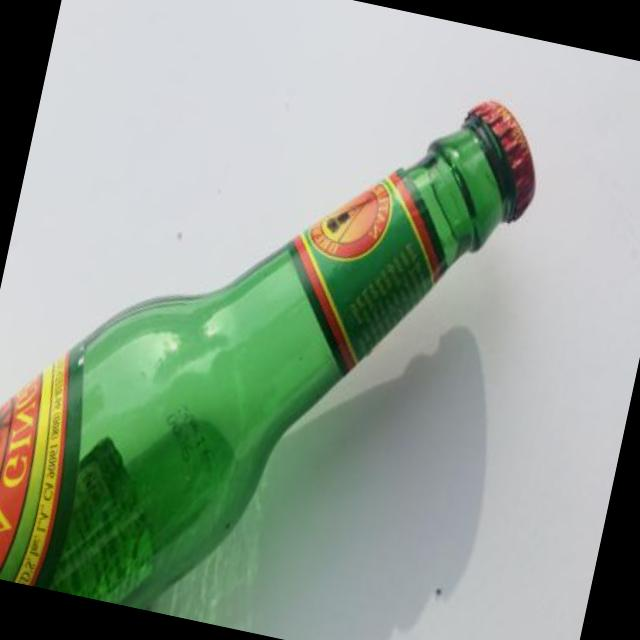chai_thuy_tinh: (0, 104, 536, 607)
